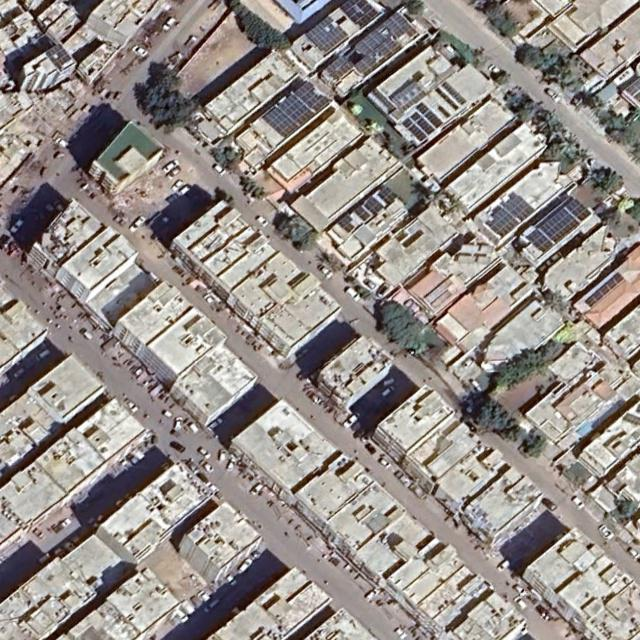solar panel: (330, 12, 412, 79), (262, 81, 330, 139), (306, 16, 348, 53), (540, 207, 580, 244), (585, 272, 625, 308), (484, 206, 520, 238), (503, 191, 536, 223), (340, 0, 378, 26), (47, 43, 72, 68), (527, 229, 554, 252), (566, 199, 592, 222), (443, 82, 466, 105), (435, 88, 459, 110), (378, 186, 398, 205), (365, 197, 383, 215), (410, 125, 427, 142), (338, 215, 354, 233), (418, 119, 435, 135), (426, 112, 443, 128), (355, 206, 370, 221), (416, 102, 429, 115), (439, 106, 451, 118), (403, 118, 414, 128), (411, 112, 421, 121)
